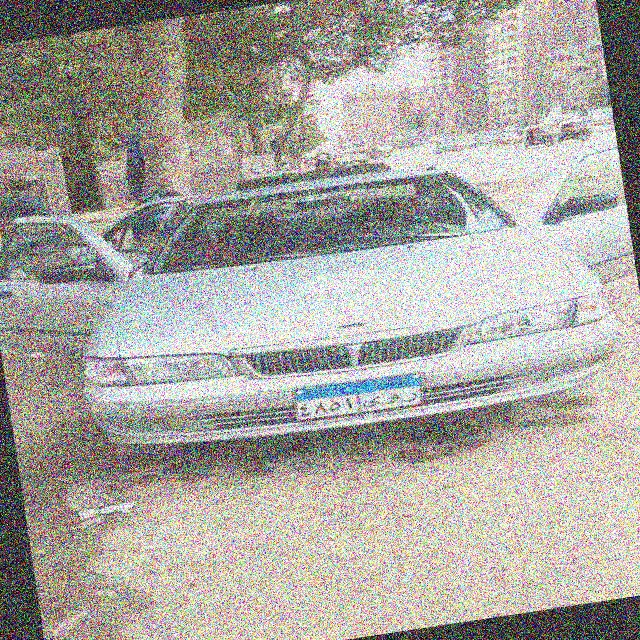License Plate: (290, 370, 429, 423)
